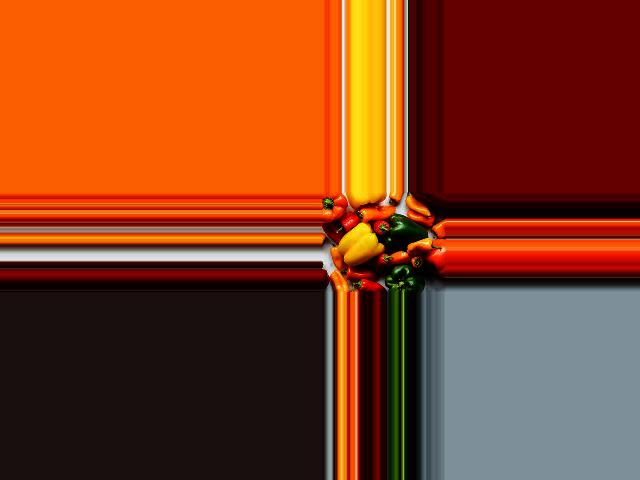bell_pepper: (351, 275, 383, 292)
